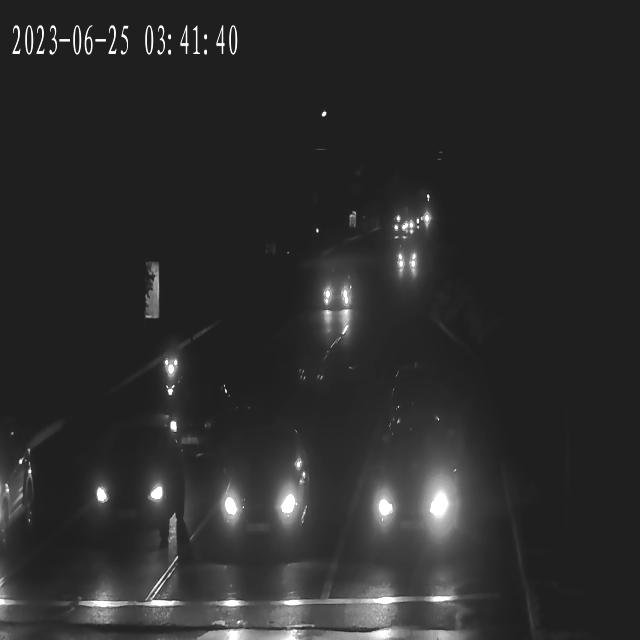Car: (189, 439, 310, 552), (352, 426, 464, 546), (78, 436, 184, 537), (0, 427, 38, 563), (322, 274, 355, 312), (397, 247, 419, 270), (394, 224, 409, 242), (420, 214, 431, 232)
Motorcycle: (162, 338, 187, 418)
